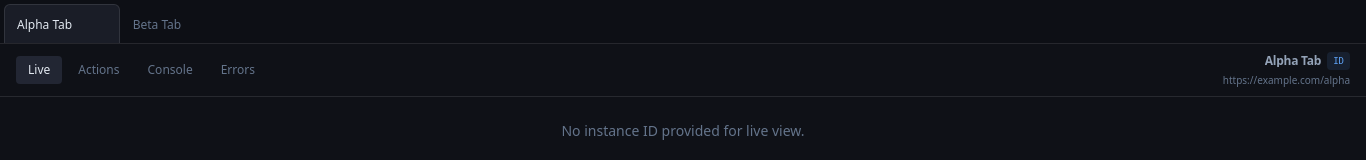
Scenario: InstanceTabsPanel › updates the selected tab details when a tab is clicked
This screenshot has width=1366, height=160.
Select Beta tab from list
Click the button "Beta Tab".
click(157, 24)  # box [133,11,181,37]
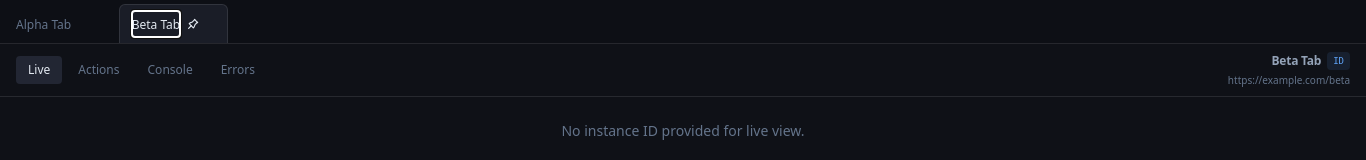
Expected: the text "ID" is shown, [1333,54,1344,68]
Result: the text "https://example.com/beta" is shown at [1228,72,1350,88]
Result: the button named "Unpin Beta Tab and follow focus" is shown at [184,15,202,33]
